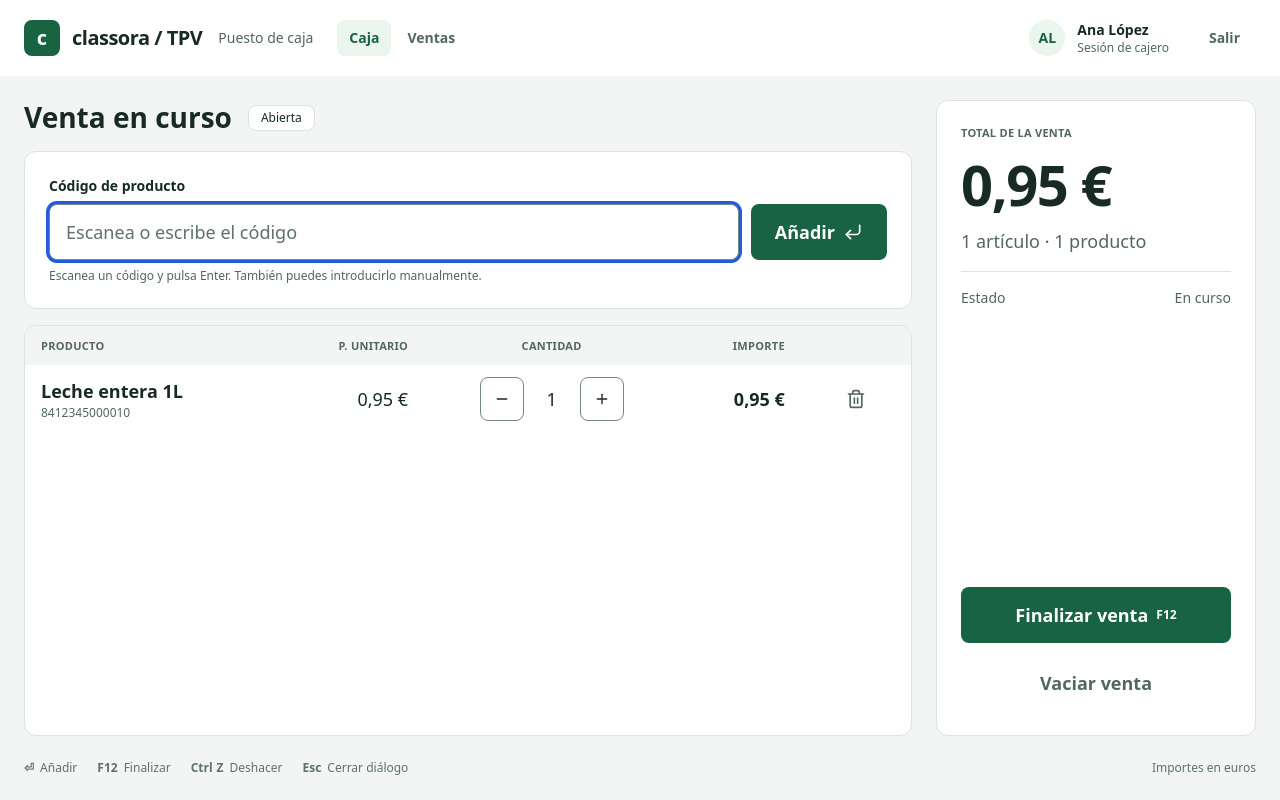
Test: Checkout: Screen Integration › CU-07: should confirm before logging out with products in the sale
Check: the field labelled "Código de producto" is enabled, box x1=49 y1=204 x2=739 y2=260
Click the button "Salir". click: (1224, 38)
box: x1=1193 y1=16 x2=1256 y2=60
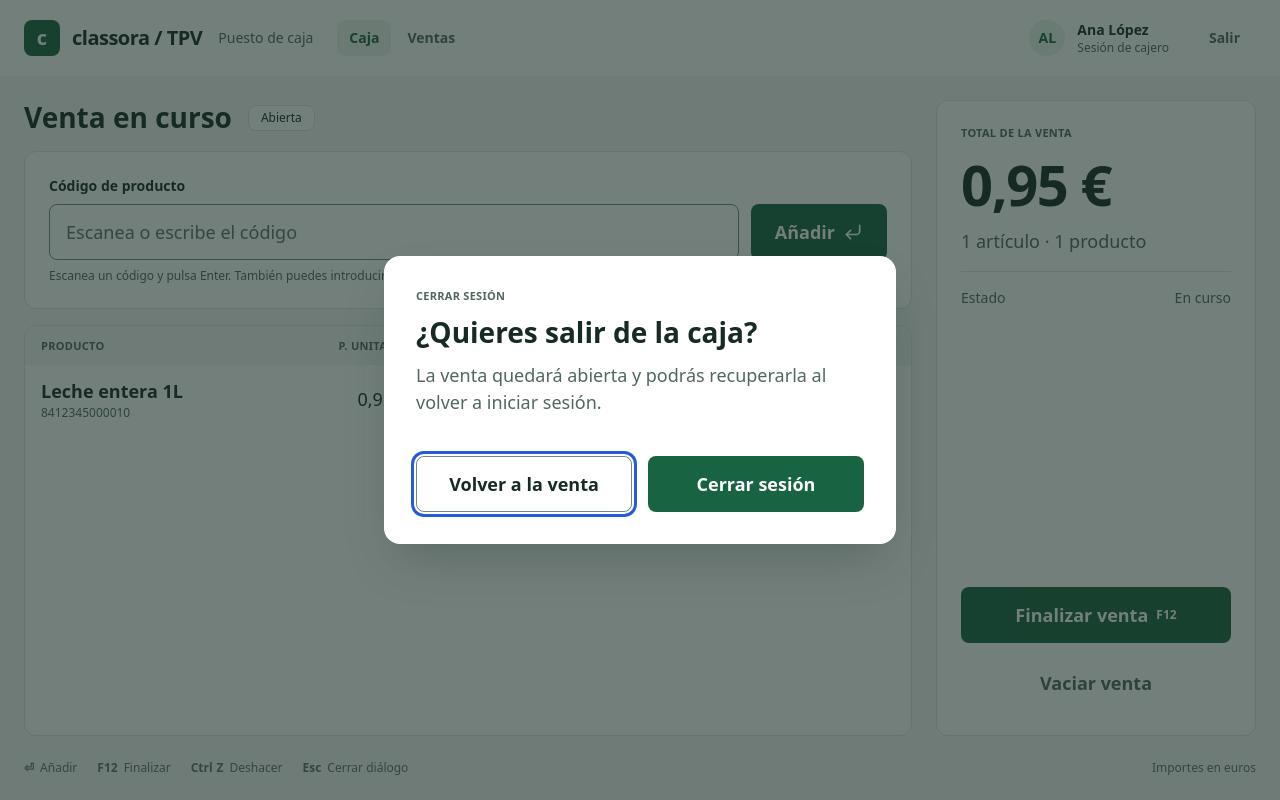
Click the button "Cerrar sesión". click: (756, 484)
box: x1=648 y1=456 x2=864 y2=512
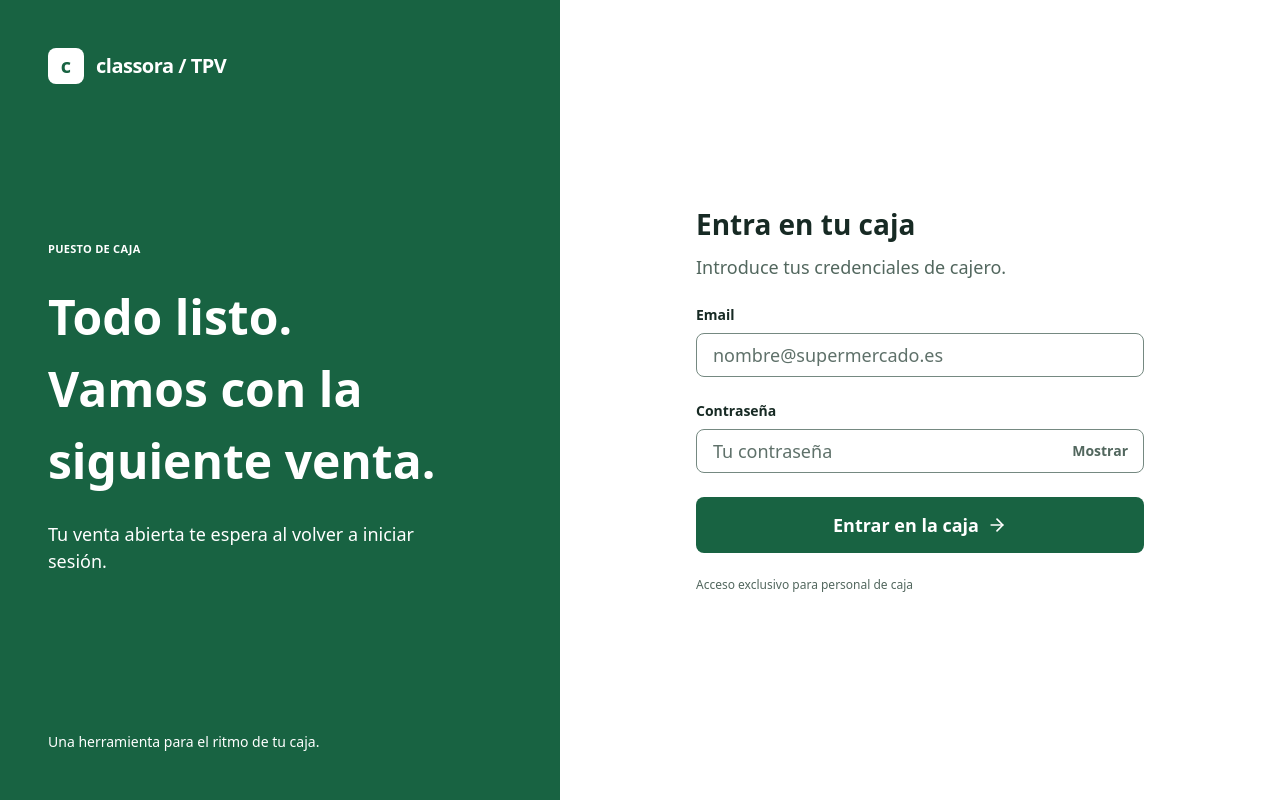
Check: the heading "Entra en tu caja" is shown, box x1=696 y1=205 x2=915 y2=243
